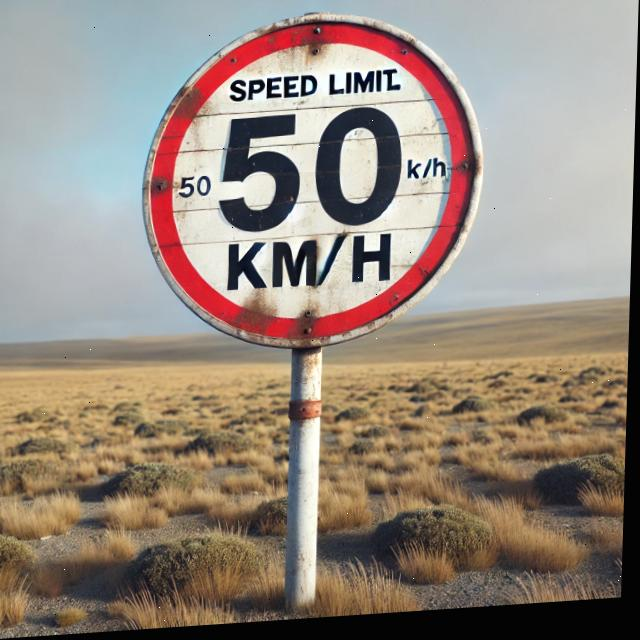Speed limit 50: (138, 7, 492, 365)
